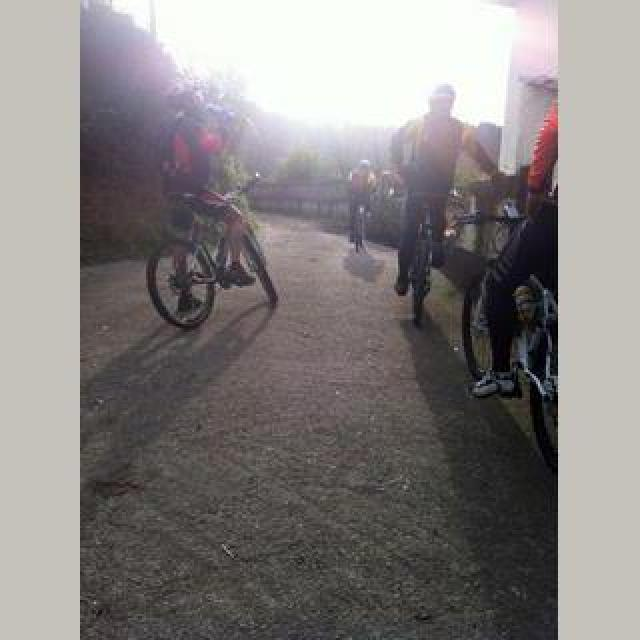MC-Bike: (474, 126, 558, 406), (384, 80, 478, 310), (348, 158, 376, 252)
Person: (456, 214, 558, 476), (144, 174, 278, 330), (396, 198, 446, 326)
